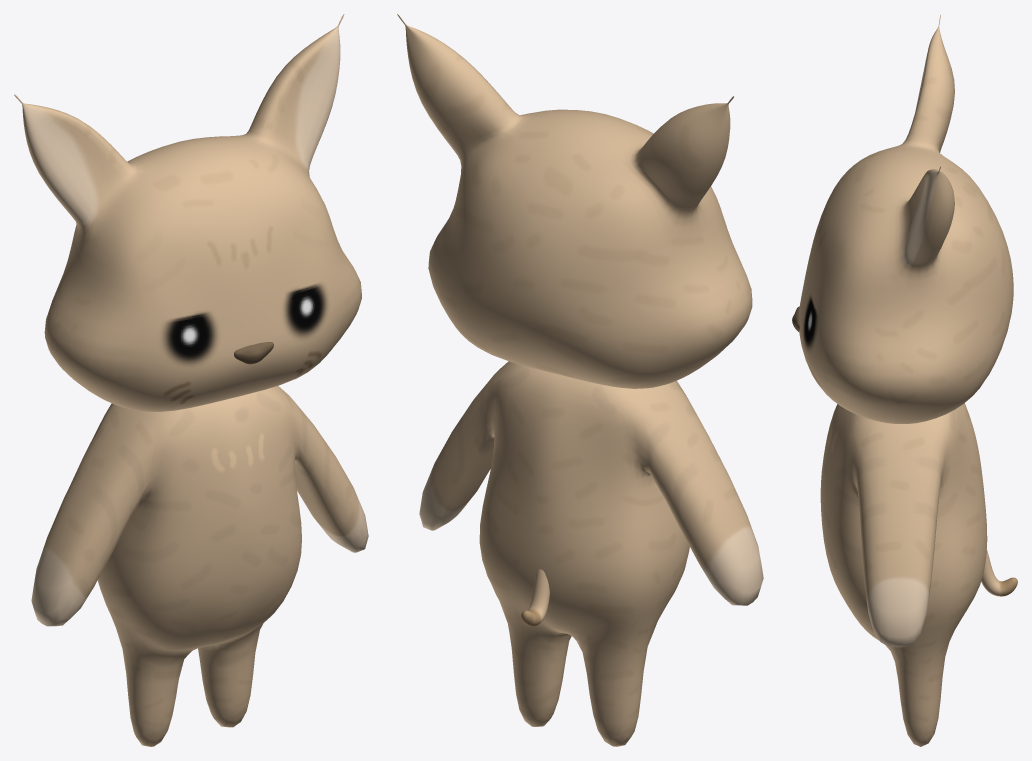
File: bobcat2 (1).fbx
3 renders of one model, left to right at view 1: azimuth 30°, elevation 25°; view 2: azimuth 150°, elevation 25°; view 3: azimuth 270°, elevation 25°, orthographic. The views are drawn at different scales.
Visible parts, largest first — view 1: Roundcube.012, Roundcube.013, Roundcube.014; view 2: Roundcube.012, Roundcube.013, Vert.004; view 3: Roundcube.012, Roundcube.013, Vert.004.
Part boxes in pixels (bbox=[...]): Roundcube.012: bbox=[14, 14, 361, 411]; Roundcube.013: bbox=[31, 386, 368, 746]; Roundcube.014: bbox=[234, 342, 273, 364]; Roundcube.012: bbox=[397, 14, 752, 388]; Roundcube.013: bbox=[419, 361, 763, 746]; Vert.004: bbox=[521, 569, 549, 626]; Roundcube.012: bbox=[799, 14, 1013, 423]; Roundcube.013: bbox=[820, 403, 987, 746]; Vert.004: bbox=[981, 549, 1017, 596].
Size of the model in its own units: 76.27 by 149 by 47.8.
2 materials, 1 textured.
